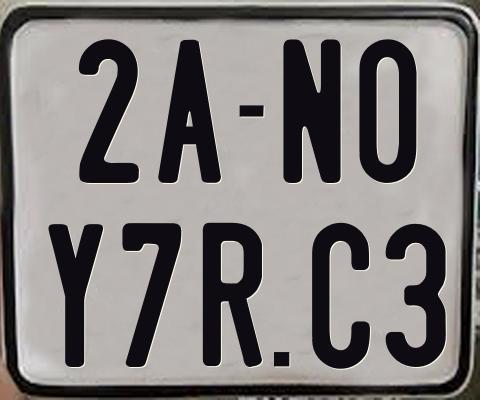0: (357, 36, 418, 185)
2: (76, 39, 142, 188)
3: (385, 222, 451, 371)
7: (122, 220, 187, 366)
A: (156, 39, 220, 183)
C: (310, 222, 374, 372)
N: (283, 39, 342, 184)
R: (201, 222, 264, 366)
Y: (47, 224, 102, 369)
